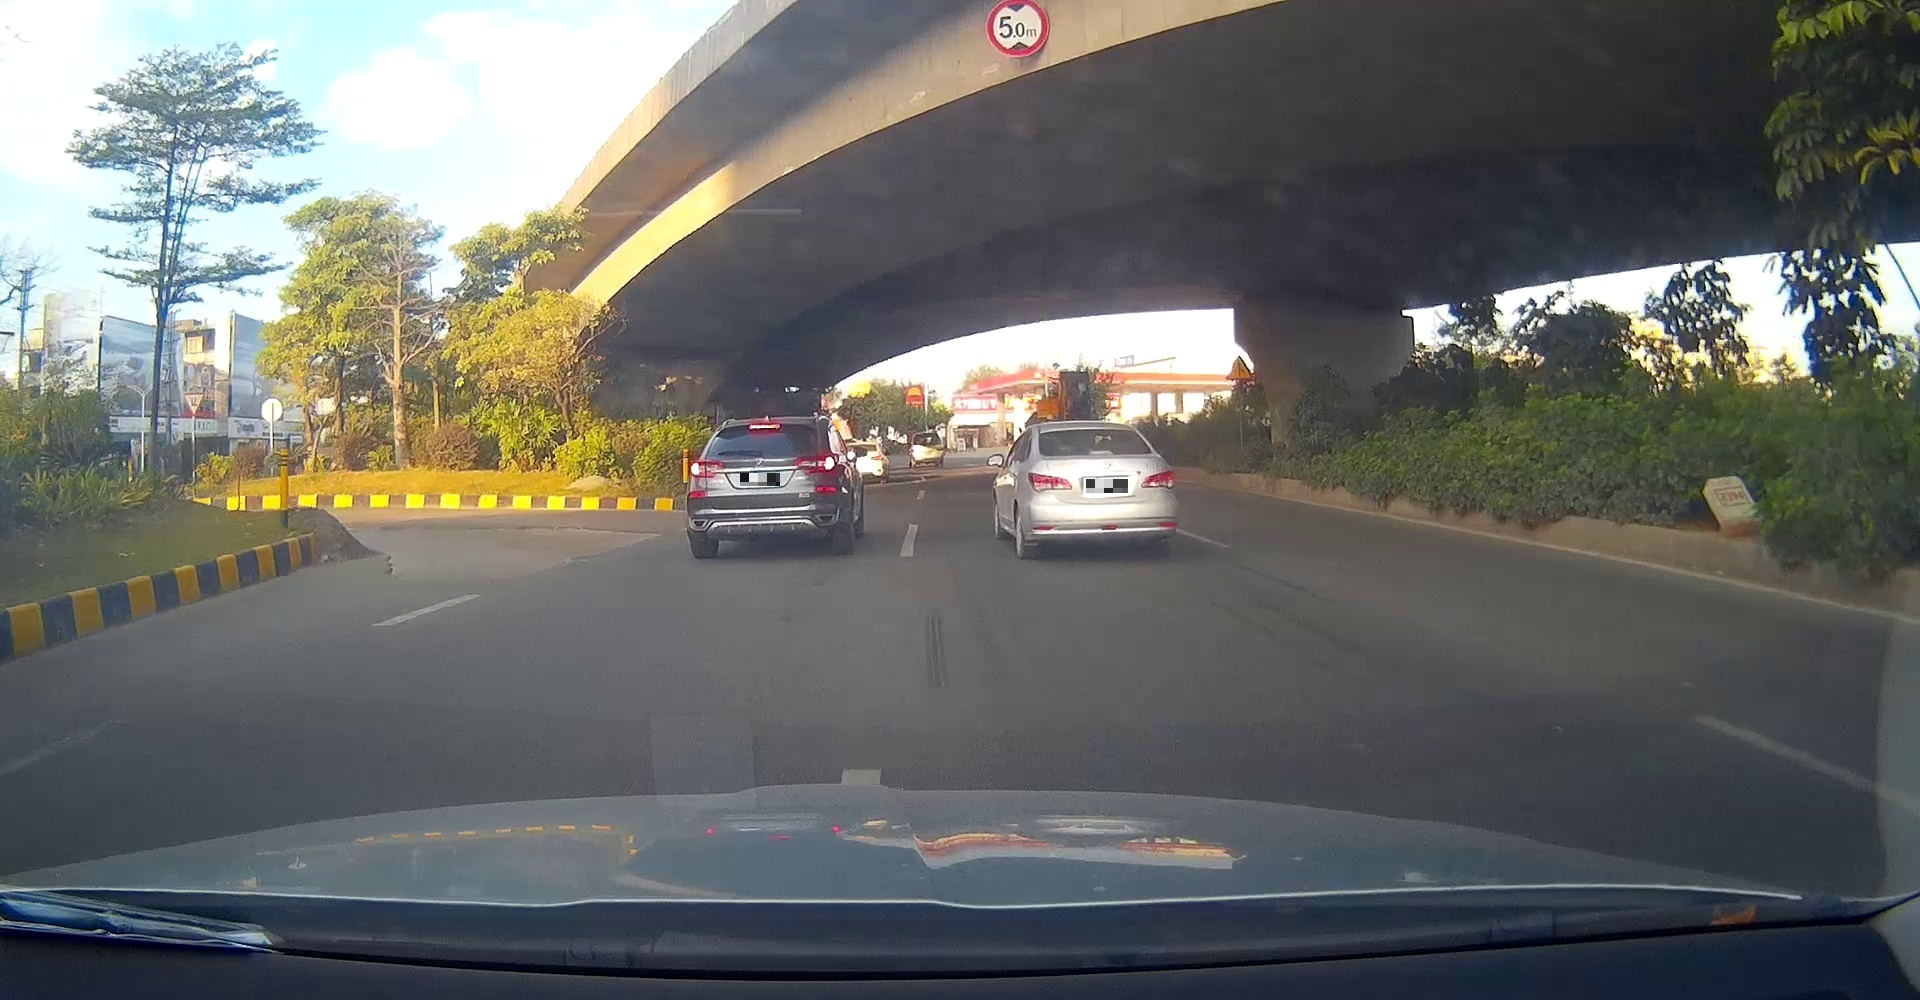L_light: (1029, 472, 1072, 492), (690, 459, 726, 478)
R_light: (795, 454, 839, 472), (1142, 470, 1176, 489)
T_light: (749, 423, 781, 430), (1088, 429, 1102, 434)
day-brake: (687, 416, 855, 558)
day-no: (1027, 421, 1178, 558)
plate_1: (740, 473, 780, 486)
plate_2: (1086, 478, 1128, 492)
